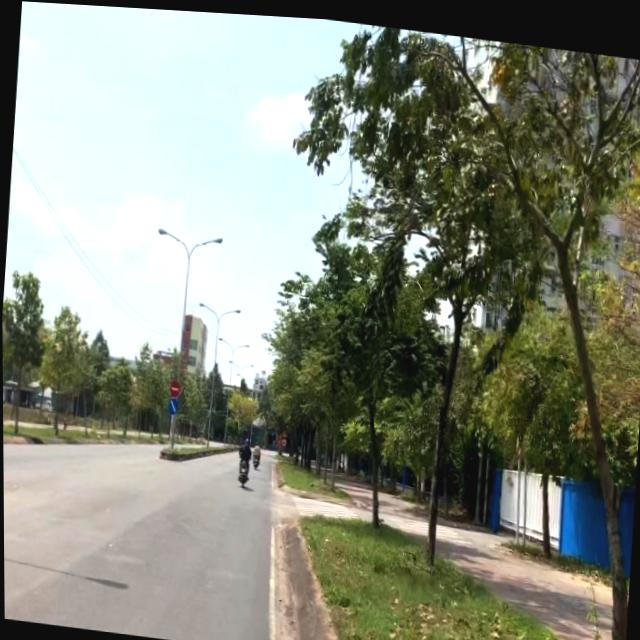Cam di nguoc chieu: (168, 377, 179, 395)
Giao nhau voi duong khong uu tien ben phai: (280, 424, 286, 434)
Toc do toi da cho phep: (279, 434, 286, 444)
Vong chuong ngai vat sang phai: (167, 395, 178, 413)
